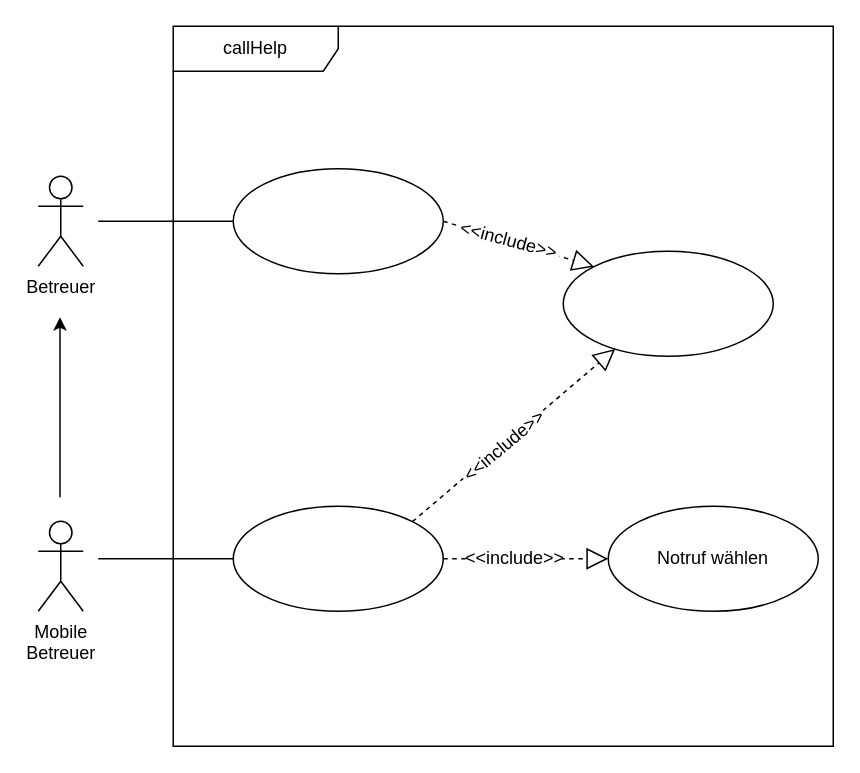
Image size: 860x773. Some labels were removed from this diagram. Here are the shapes that lost their labels. From the top down, the centre of each, then its label:
At point (337, 220): "Pfleger-Unterstützung anfordern".
At point (667, 303): "Meldung an Zentrale senden".
At point (337, 558): "Notfall melden".
